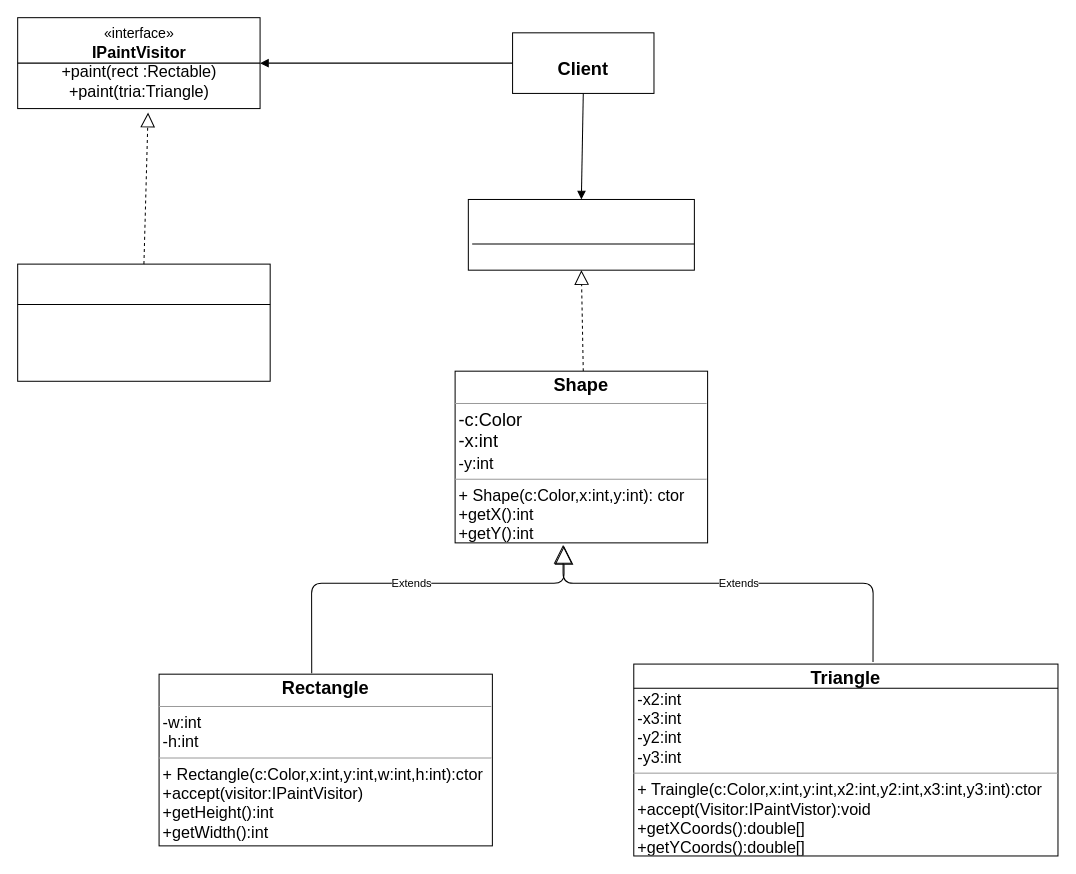
This 1076x874 diagram has some shape labels left out. The box of each missing label's shape, as (x1, y1, x2, y2) in pixels:
TreePaintVisitor +paint(rect:Rectangle) +paint(tria:Triangle): (17, 263, 270, 381)
«interface» IPaintable +accept(visitor:IPaintVisitor): (467, 198, 694, 270)
